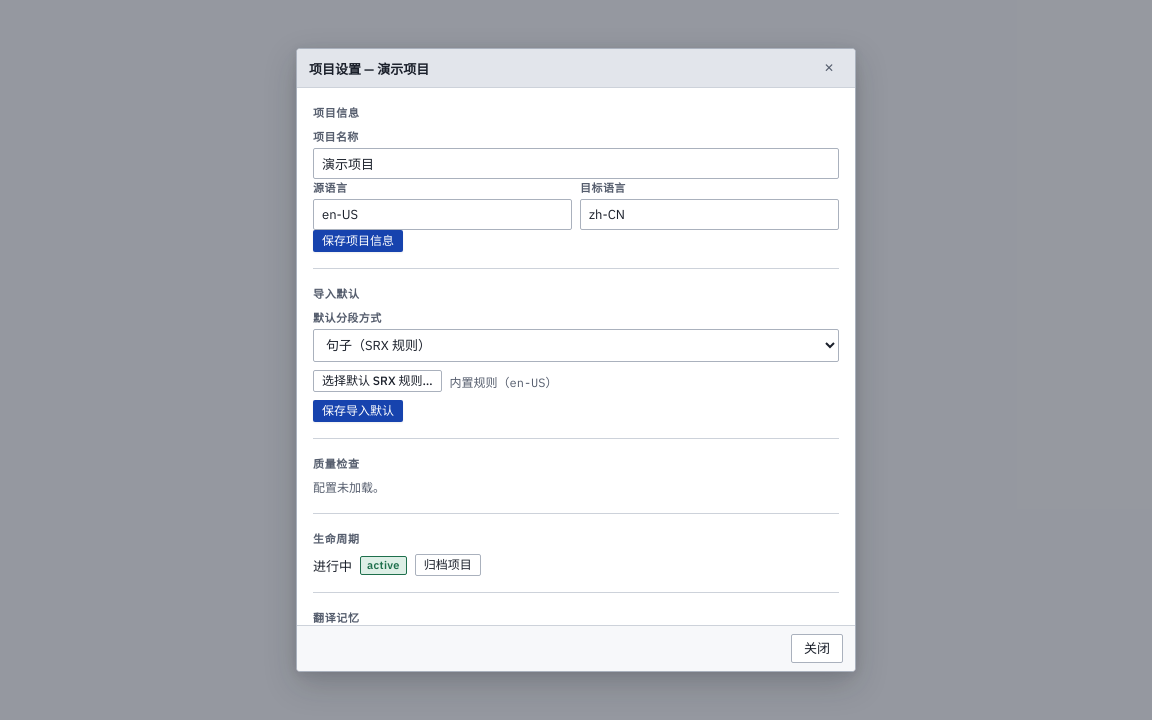
ProjectSettingsDialog › surfaces the engine conflict when the language pair is pinned
Replace the text in the field labelled "目标语言" with "fr-FR" at coordinates (710, 214), box left=580, top=199, right=839, bottom=230
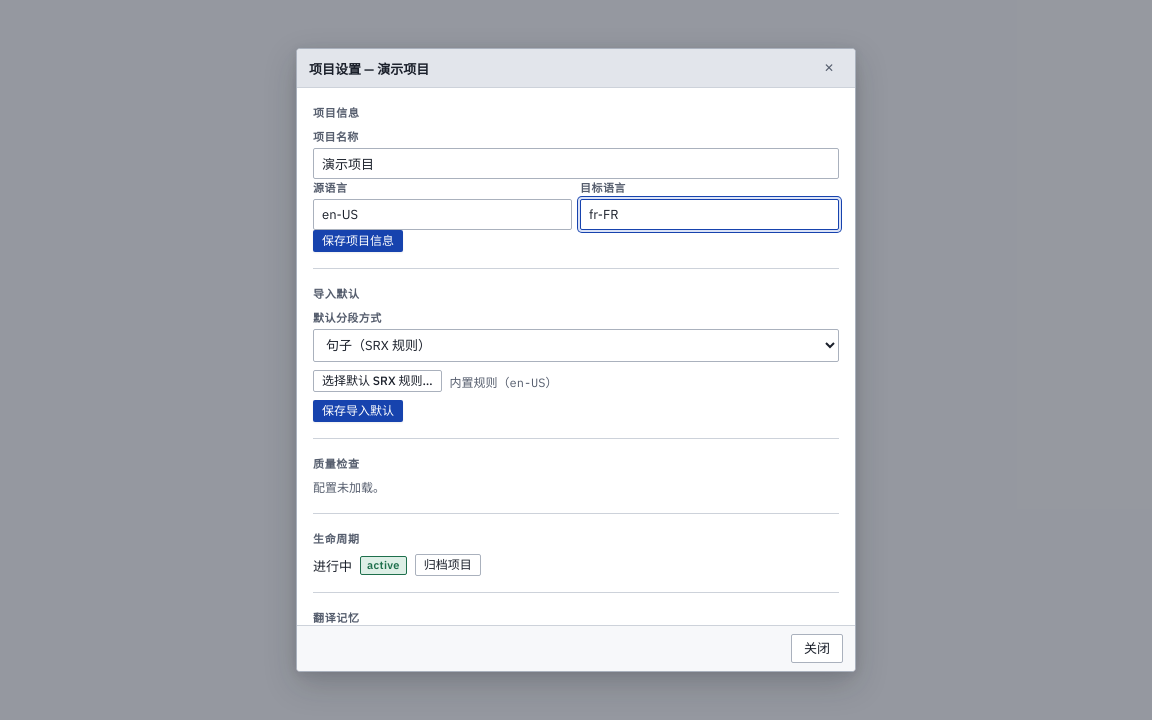
Click the button "保存项目信息" at coordinates (358, 241), box left=313, top=230, right=403, bottom=252
(page scrolled)
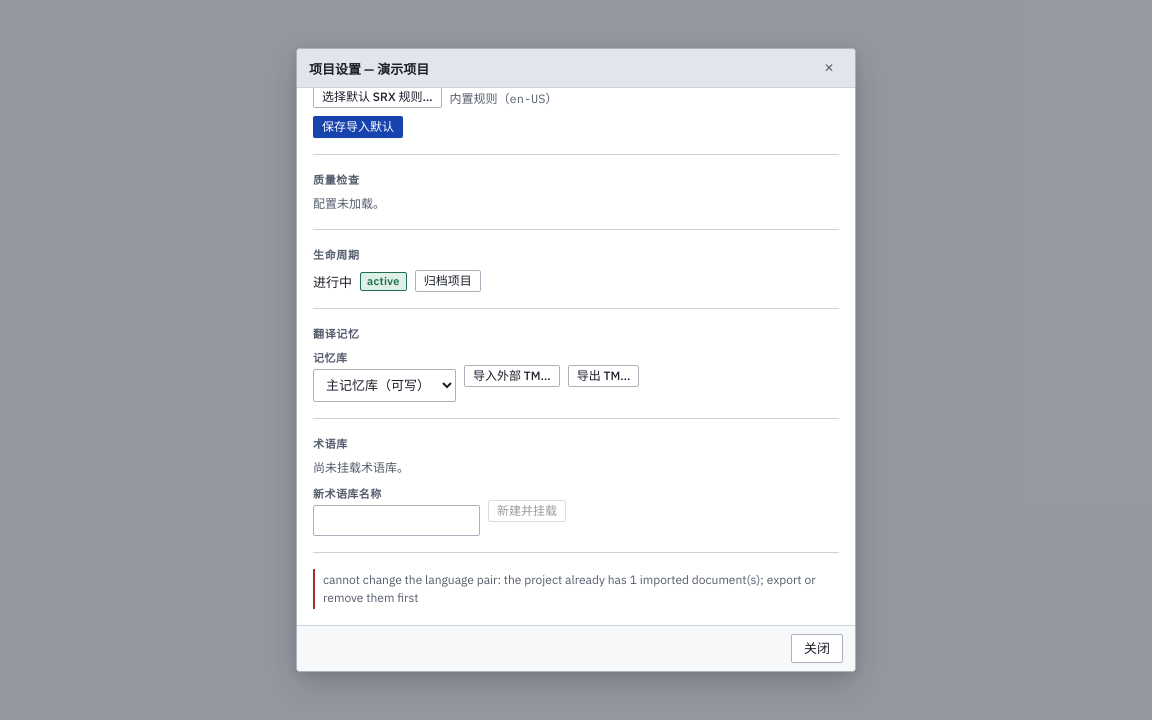
Now the message shows "cannot change the language pair", box left=323, top=572, right=816, bottom=605
